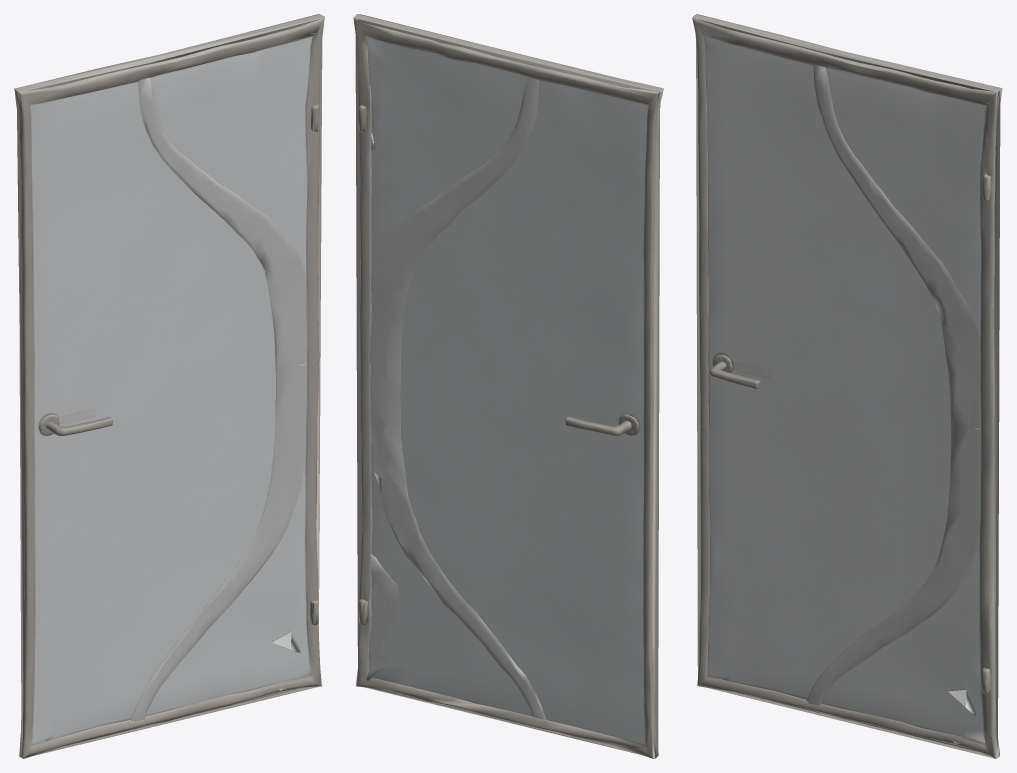
Rendered from Meshy_AI_a_single_leaf_frosted_0904014832_texture.glb.
3 renders of one model, left to right at view 1: azimuth 30°, elevation 25°; view 2: azimuth 150°, elevation 25°; view 3: azimuth 330°, elevation 25°, orthographic.
Visible parts, largest first — view 1: mesh_node; view 2: mesh_node; view 3: mesh_node.
Part boxes in pixels (<box>): mesh_node: <box>14,14,324,758</box>; mesh_node: <box>353,14,663,758</box>; mesh_node: <box>692,14,1002,758</box>.
Bounding box in the file's own units: 0.4805 × 1 × 0.093.
Materials: 1 (1 with a texture image).
